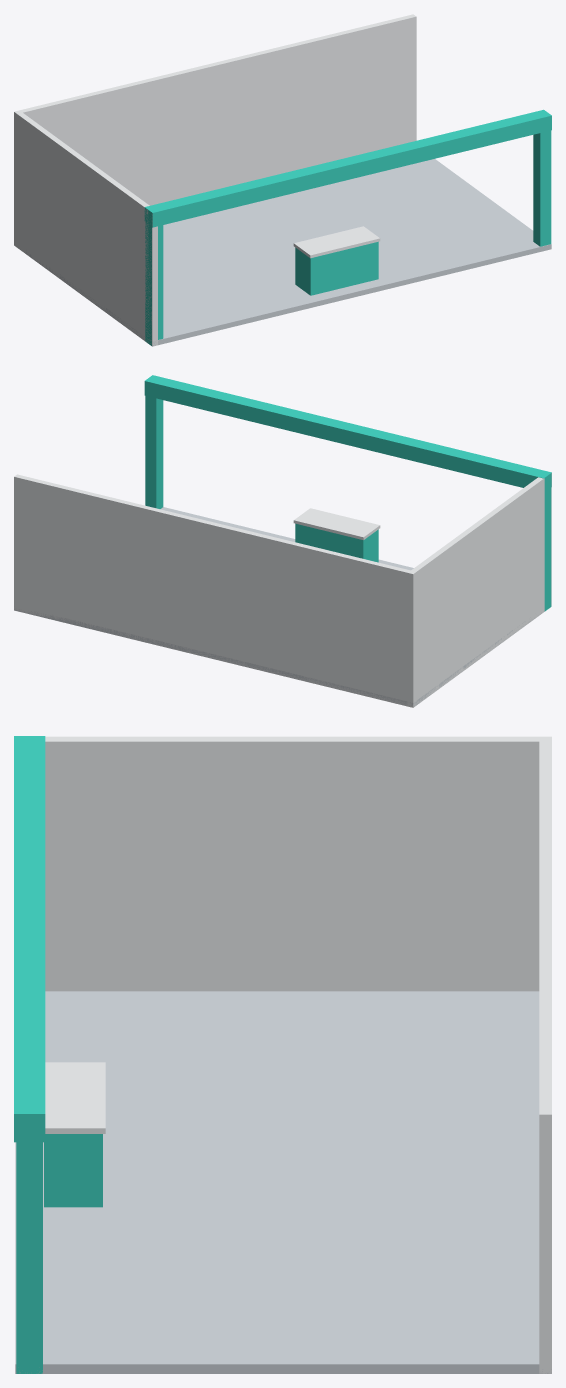
3 renders of one model, top to bottom at view 1: azimuth 30°, elevation 25°; view 2: azimuth 150°, elevation 25°; view 3: azimuth 270°, elevation 25°, orthographic. The views are drawn at different scales.
Visible parts, largest first — view 1: Exhibition Booth Concept; view 2: Exhibition Booth Concept; view 3: Exhibition Booth Concept.
Boxes of the visible parts, x1,y1,x2,y2 form: Exhibition Booth Concept: (14, 14, 551, 346); Exhibition Booth Concept: (14, 375, 551, 707); Exhibition Booth Concept: (14, 736, 551, 1373).
Size of the model in its own units: 10 by 3.2 by 6.02.
